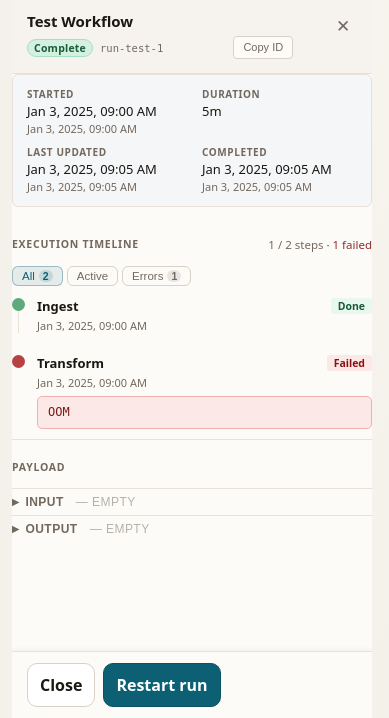
Test: Execution timeline — scalability controls › filtering to 'Errors' shows only errored steps
Click the button "Errors 1" at (157, 276), box left=122, top=266, right=191, bottom=286
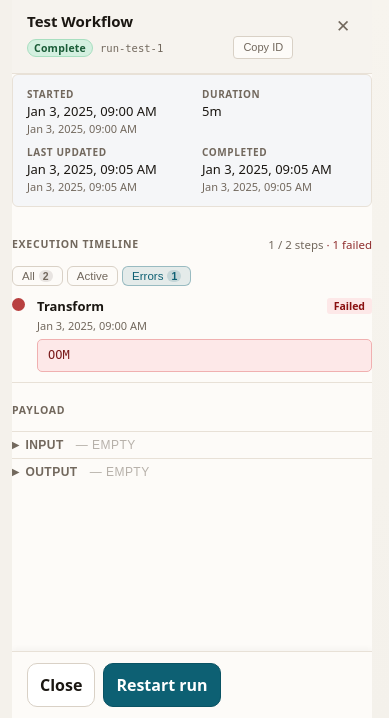
Check: the text "Transform" is shown, box left=37, top=296, right=104, bottom=314
Check: the text "Ingest" is gone
